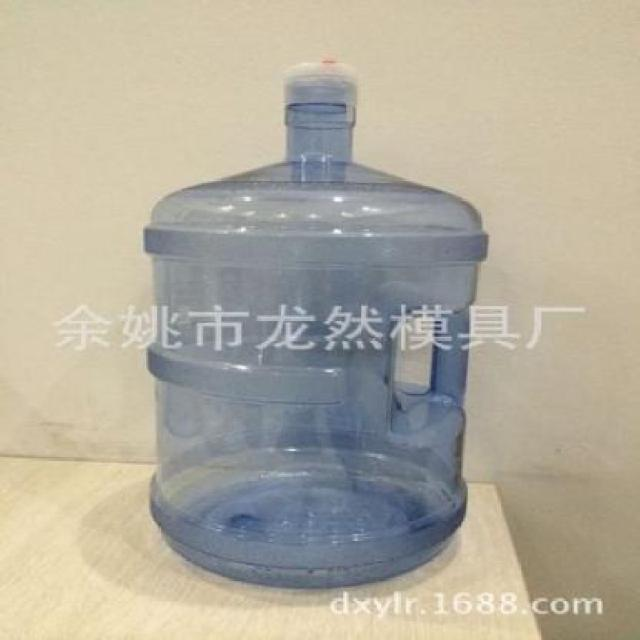coolerbottle: (140, 63, 495, 600)
